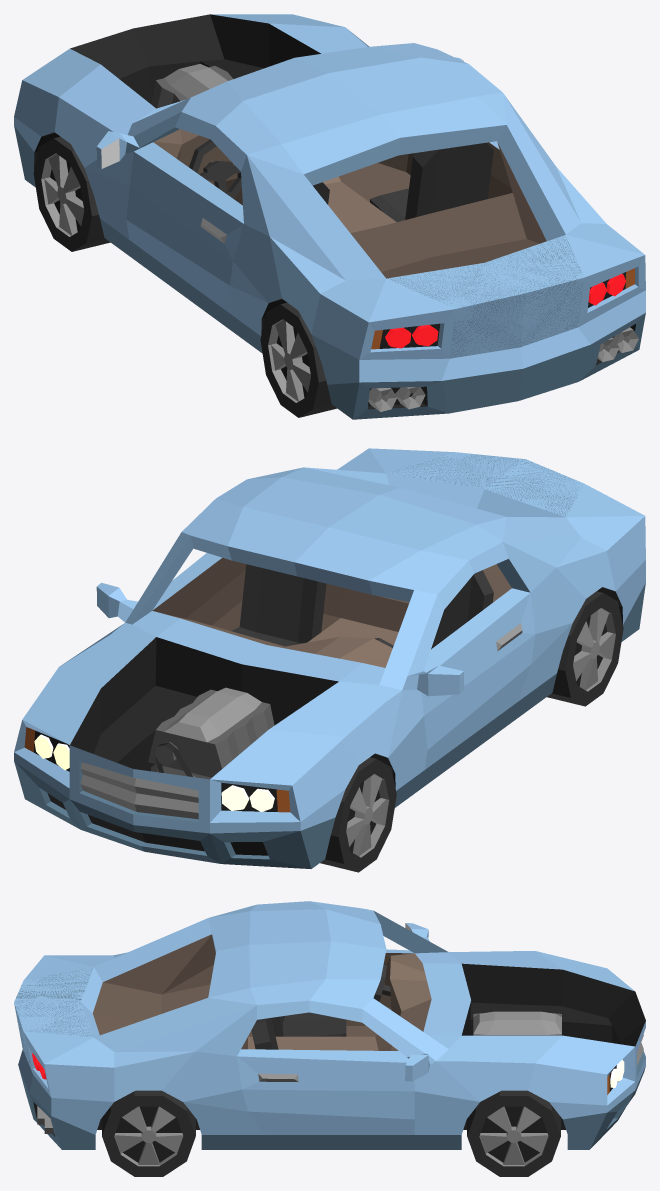
File: car_v1.fbx
3 views of the same model, one above another, from view 1: azimuth 30°, elevation 25°; view 2: azimuth 150°, elevation 25°; view 3: azimuth 270°, elevation 25° (orthographic). The views are drawn at different scales.
Visible parts, largest first — view 1: Car, Trunk, DoorL, Seat2, WheelBL, WheelFL, Engine, Steeringwheel, DoorR; view 2: Car, DoorL, Engine, Trunk, Seat2, WheelFL, WheelBL, DoorR, Seat1; view 3: Car, DoorR, WheelBR, WheelFR, Trunk, Engine, Seat1, Seat2, DoorL.
Boxes of the visible parts, bbox=[...] form: Car: bbox=[14, 14, 645, 419]; Trunk: bbox=[387, 235, 584, 358]; DoorL: bbox=[126, 142, 243, 307]; Seat2: bbox=[370, 142, 493, 221]; WheelBL: bbox=[260, 302, 336, 417]; WheelFL: bbox=[33, 136, 110, 251]; Engine: bbox=[151, 64, 233, 108]; Steeringwheel: bbox=[189, 139, 241, 198]; DoorR: bbox=[406, 141, 512, 198]; Car: bbox=[14, 448, 645, 868]; DoorL: bbox=[421, 588, 535, 769]; Engine: bbox=[148, 687, 274, 779]; Trunk: bbox=[387, 452, 583, 516]; Seat2: bbox=[231, 564, 326, 646]; WheelFL: bbox=[320, 757, 396, 872]; WheelBL: bbox=[547, 591, 623, 706]; DoorR: bbox=[152, 553, 246, 630]; Seat1: bbox=[431, 570, 493, 649]; Car: bbox=[18, 901, 645, 1149]; DoorR: bbox=[237, 1049, 414, 1134]; WheelBR: bbox=[102, 1090, 195, 1176]; WheelFR: bbox=[467, 1090, 560, 1176]; Trunk: bbox=[14, 967, 93, 1073]; Engine: bbox=[473, 1011, 561, 1035]; Seat1: bbox=[271, 1012, 346, 1036]; Seat2: bbox=[251, 1018, 278, 1049]; DoorL: bbox=[346, 949, 413, 1025].
Bounding box in the file's own units: 3.48 × 2 × 6.52.
